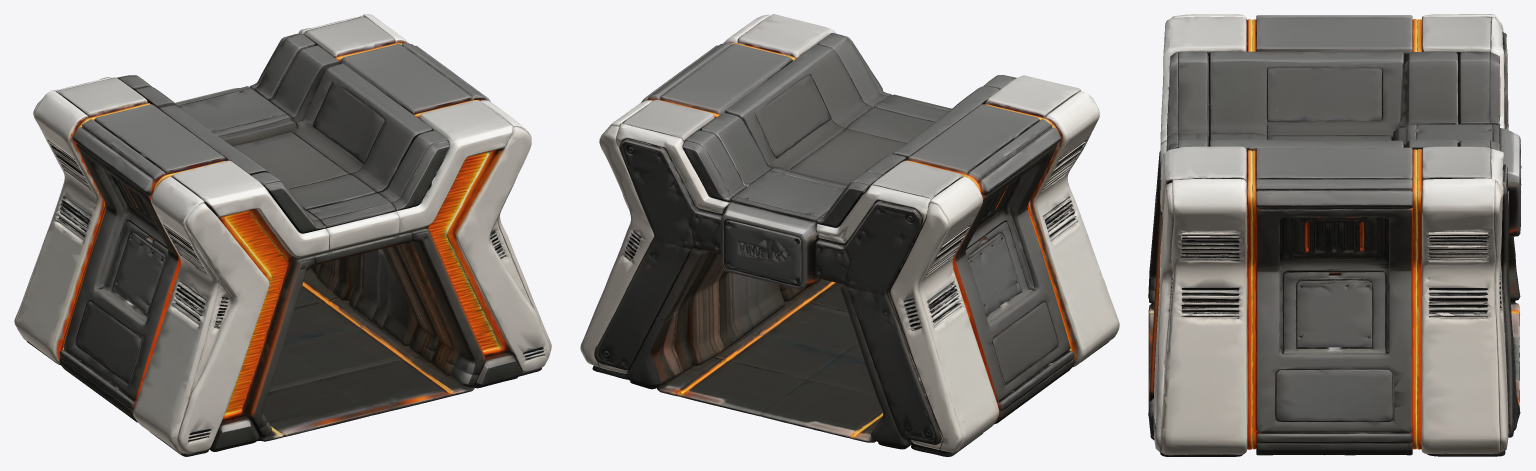
Rendered from movx-x-portal.glb.
3 renders of one model, left to right at view 1: azimuth 30°, elevation 25°; view 2: azimuth 150°, elevation 25°; view 3: azimuth 270°, elevation 25°, orthographic. The views are drawn at different scales.
Parts seen in each view (by area): view 1: tripo_part_0, tripo_part_29, tripo_part_27, tripo_part_12, tripo_part_4, tripo_part_5, tripo_part_1, tripo_part_34, tripo_part_13, tripo_part_9, tripo_part_37, tripo_part_6 (+19 smaller); view 2: tripo_part_27, tripo_part_29, tripo_part_26, tripo_part_0, tripo_part_2, tripo_part_1, tripo_part_5, tripo_part_15, tripo_part_34, tripo_part_17, tripo_part_13, tripo_part_19 (+18 smaller); view 3: tripo_part_0, tripo_part_3, tripo_part_26, tripo_part_46, tripo_part_13, tripo_part_23, tripo_part_36, tripo_part_34, tripo_part_18, tripo_part_30, tripo_part_20, tripo_part_1 (+15 smaller).
Boxes of the visible parts, x1=… form: tripo_part_0: x1=133, y1=100, x2=551, y2=454; tripo_part_29: x1=250, y1=33, x2=449, y2=211; tripo_part_27: x1=14, y1=77, x2=148, y2=363; tripo_part_12: x1=258, y1=356, x2=474, y2=441; tripo_part_4: x1=245, y1=227, x2=485, y2=437; tripo_part_5: x1=63, y1=144, x2=180, y2=400; tripo_part_1: x1=269, y1=288, x2=418, y2=391; tripo_part_34: x1=72, y1=104, x2=225, y2=194; tripo_part_13: x1=339, y1=42, x2=490, y2=114; tripo_part_9: x1=425, y1=149, x2=509, y2=357; tripo_part_37: x1=233, y1=132, x2=376, y2=210; tripo_part_6: x1=217, y1=209, x2=294, y2=422; tripo_part_27: x1=816, y1=160, x2=999, y2=452; tripo_part_29: x1=682, y1=33, x2=891, y2=201; tripo_part_26: x1=580, y1=100, x2=728, y2=374; tripo_part_0: x1=723, y1=14, x2=1119, y2=365; tripo_part_2: x1=721, y1=167, x2=848, y2=290; tripo_part_1: x1=709, y1=299, x2=876, y2=396; tripo_part_5: x1=953, y1=144, x2=1070, y2=401; tripo_part_15: x1=625, y1=247, x2=725, y2=386; tripo_part_34: x1=907, y1=104, x2=1061, y2=195; tripo_part_17: x1=847, y1=287, x2=942, y2=444; tripo_part_13: x1=641, y1=42, x2=792, y2=114; tripo_part_19: x1=594, y1=239, x2=693, y2=370; tripo_part_0: x1=1153, y1=14, x2=1247, y2=455; tripo_part_3: x1=1167, y1=51, x2=1500, y2=138; tripo_part_26: x1=1421, y1=146, x2=1509, y2=453; tripo_part_46: x1=1258, y1=350, x2=1410, y2=432; tripo_part_13: x1=1256, y1=147, x2=1413, y2=208; tripo_part_23: x1=1280, y1=264, x2=1388, y2=353; tripo_part_36: x1=1256, y1=206, x2=1415, y2=361; tripo_part_34: x1=1256, y1=15, x2=1414, y2=57; tripo_part_18: x1=1246, y1=150, x2=1274, y2=449; tripo_part_30: x1=1388, y1=149, x2=1422, y2=449; tripo_part_20: x1=1283, y1=217, x2=1386, y2=261; tripo_part_1: x1=1256, y1=431, x2=1412, y2=455.
Size of the model in its own units: 0.9808 by 0.6105 by 0.7718.
Materials: 62 (62 with a texture image).
